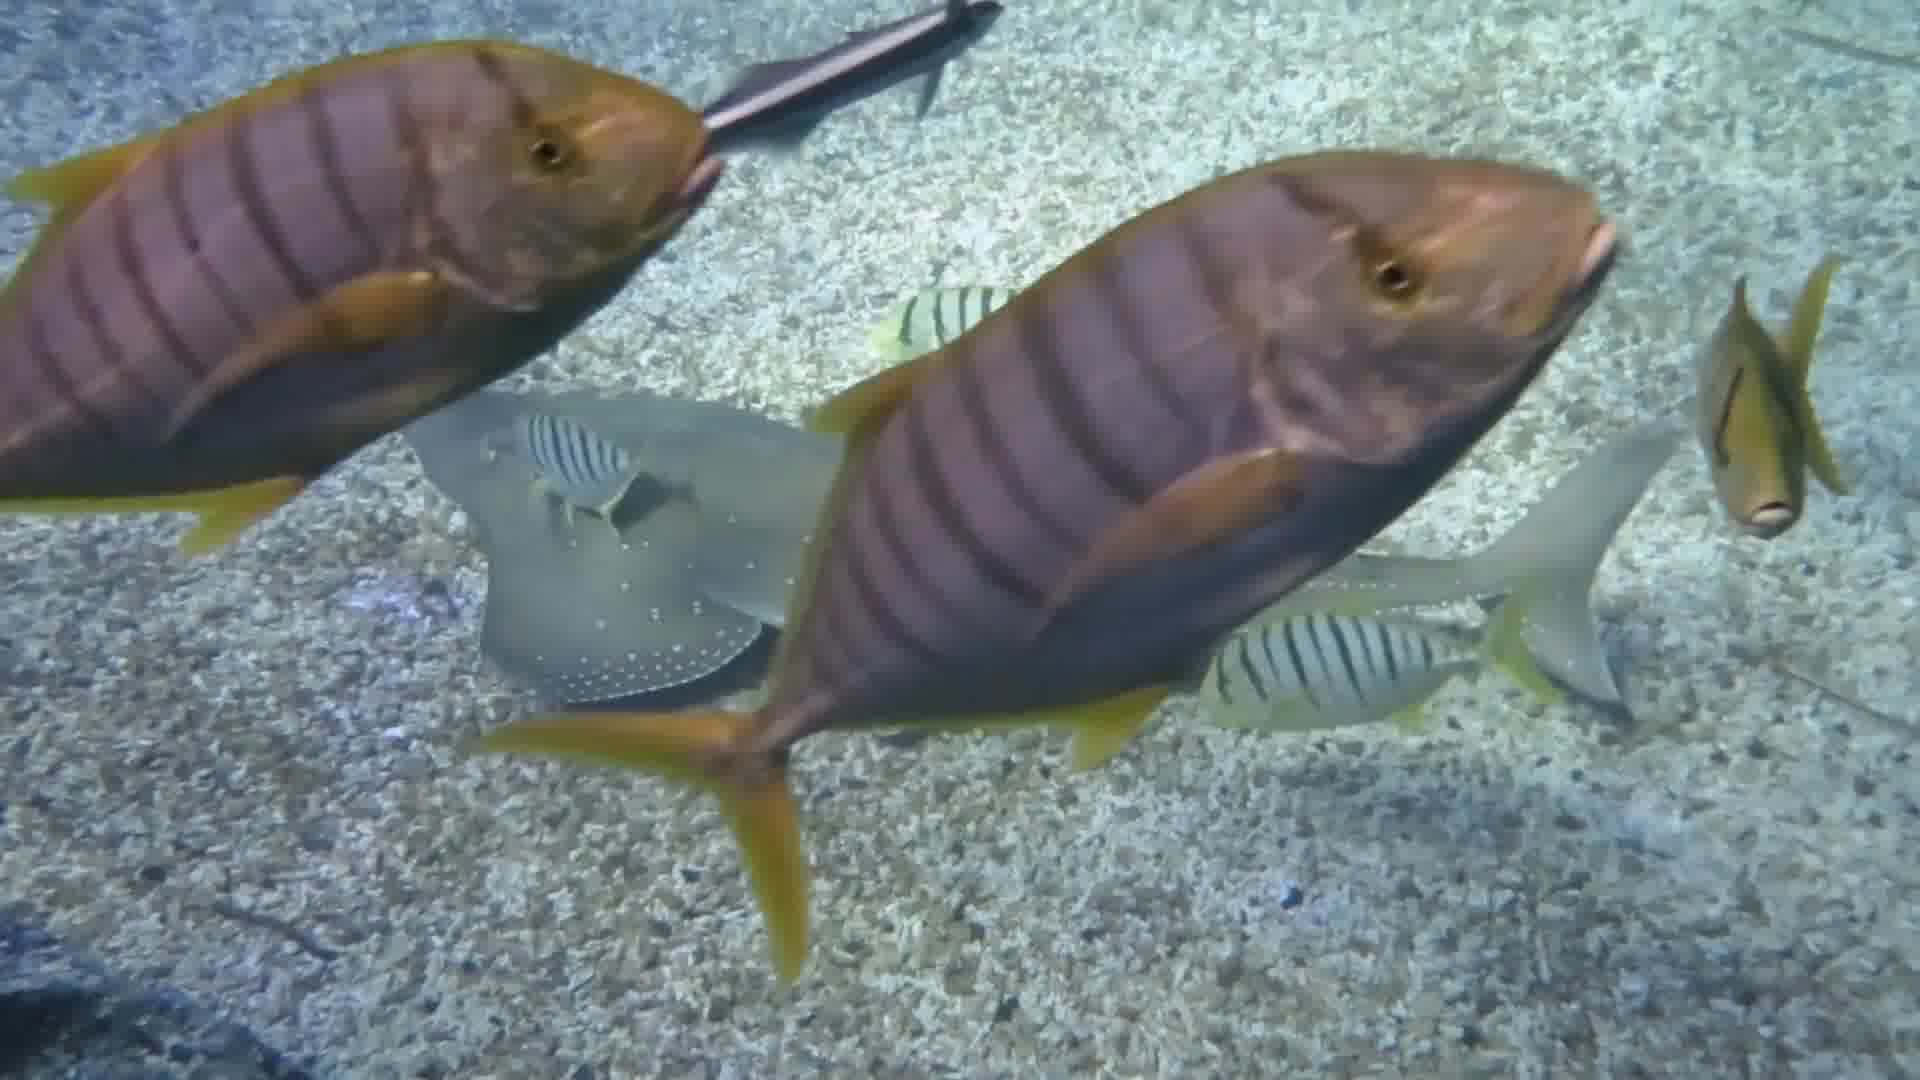Rhychobatus djiddensis: (375, 320, 852, 771)
